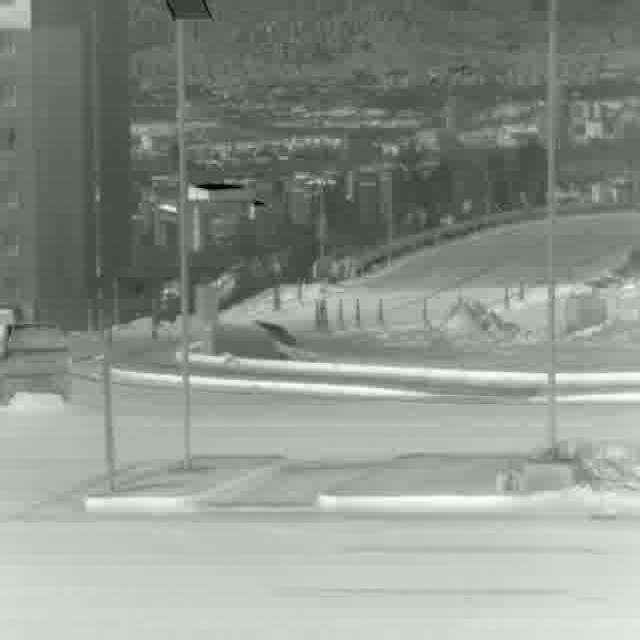Car: (0, 314, 71, 409)
